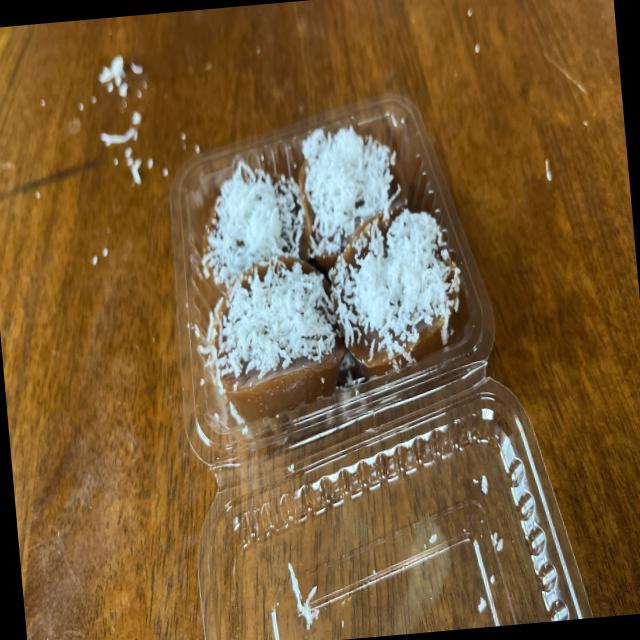Kuih lompang: (201, 254, 345, 420), (330, 208, 460, 373), (202, 160, 309, 288), (300, 128, 394, 258)
